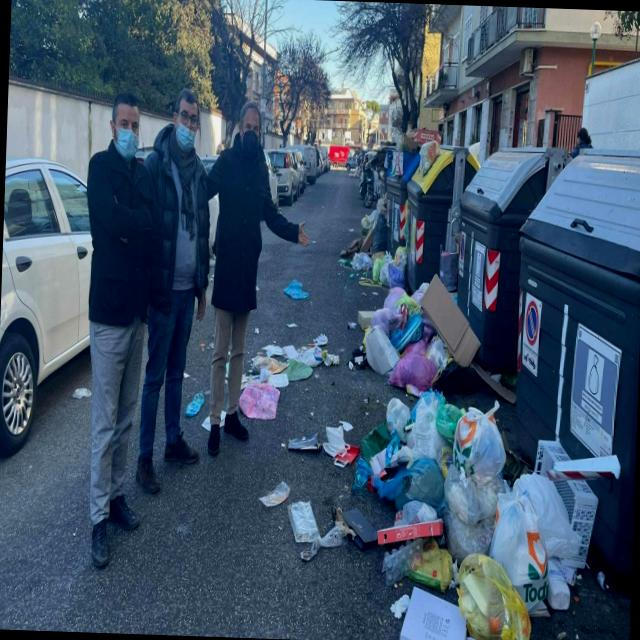garbage: (334, 241, 612, 640)
